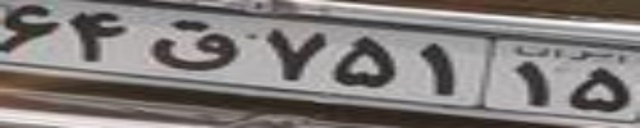1: (418, 41, 456, 95), (512, 58, 551, 106)
4: (70, 11, 125, 61)
5: (331, 35, 398, 88), (564, 65, 631, 112)
6: (3, 4, 58, 53)
7: (264, 28, 325, 81)
ghaf: (148, 19, 237, 70)
